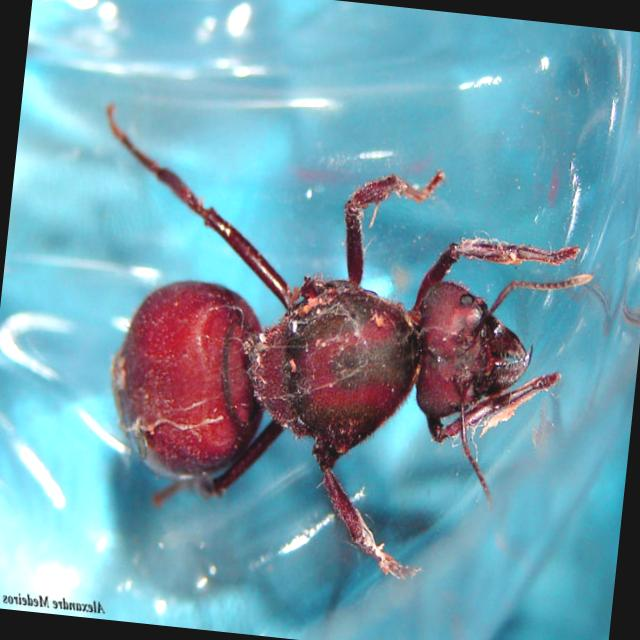Alive-Female-Dealate: (58, 103, 603, 597)
